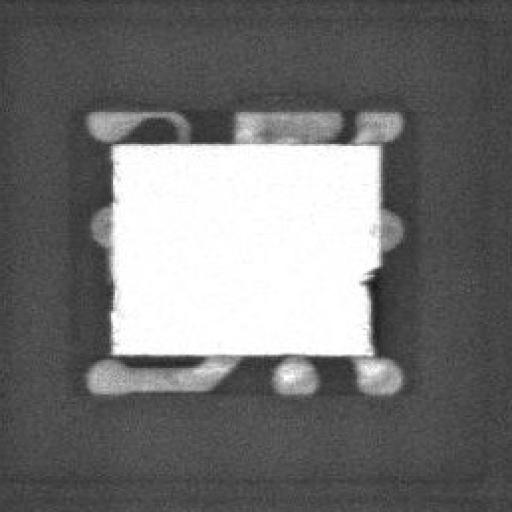DIE_BROKEN: (355, 262, 379, 354)
